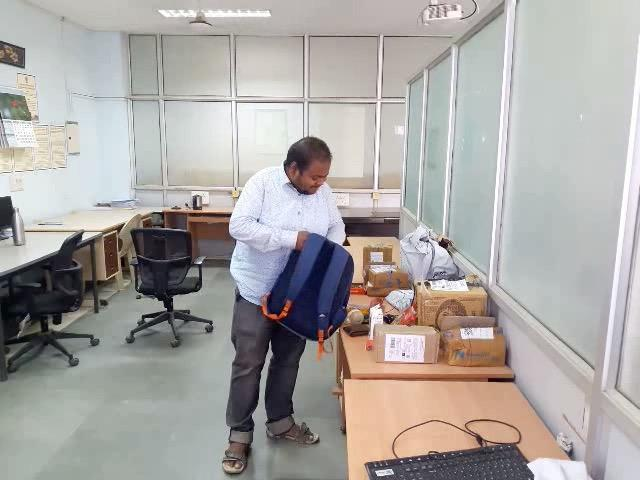shoplifting: (196, 199, 389, 346)
